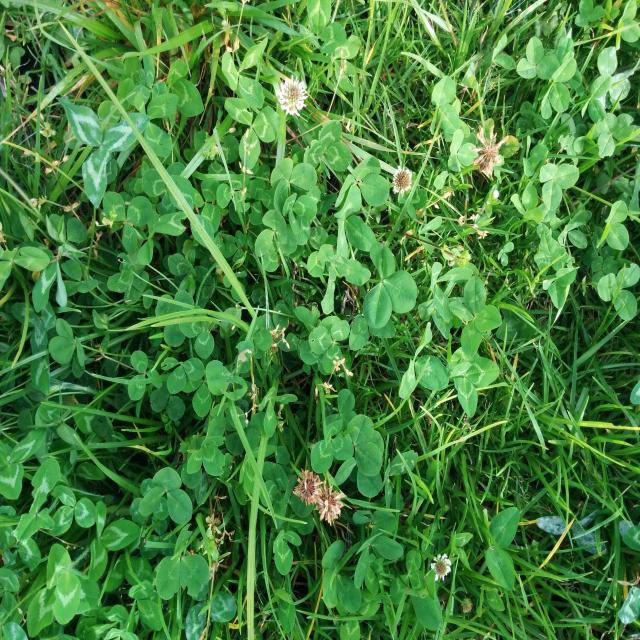Four Leaf Clover: (449, 275, 501, 357)
